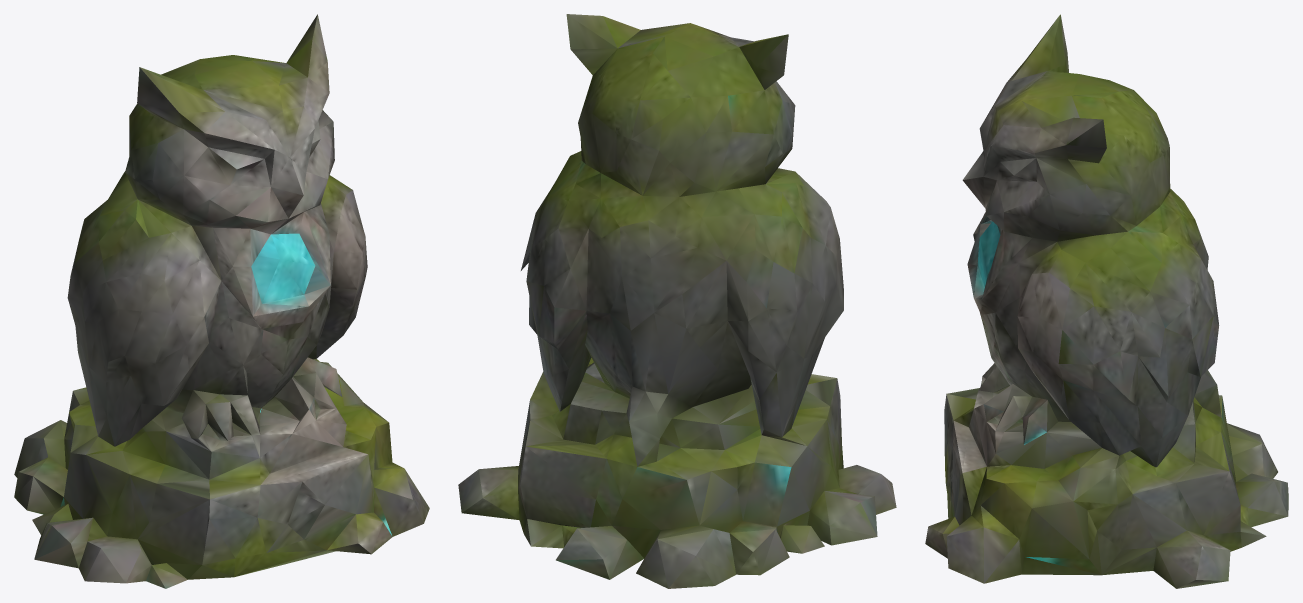
The model's file is estatua_piedra_1000.glb.
The picture shows the model from 3 angles, left to right: view 1: azimuth 30°, elevation 25°; view 2: azimuth 150°, elevation 25°; view 3: azimuth 270°, elevation 25°; orthographic projection. The views are drawn at different scales.
Visible parts, largest first — view 1: estatua_piedra_malla; view 2: estatua_piedra_malla; view 3: estatua_piedra_malla.
Boxes of the visible parts, x1,y1,x2,y2 form: estatua_piedra_malla: (14, 14, 429, 588); estatua_piedra_malla: (458, 14, 896, 588); estatua_piedra_malla: (925, 14, 1288, 588).
Bounding box in the file's own units: 0.2899 × 0.3679 × 0.2663.
1 material, 1 textured.
